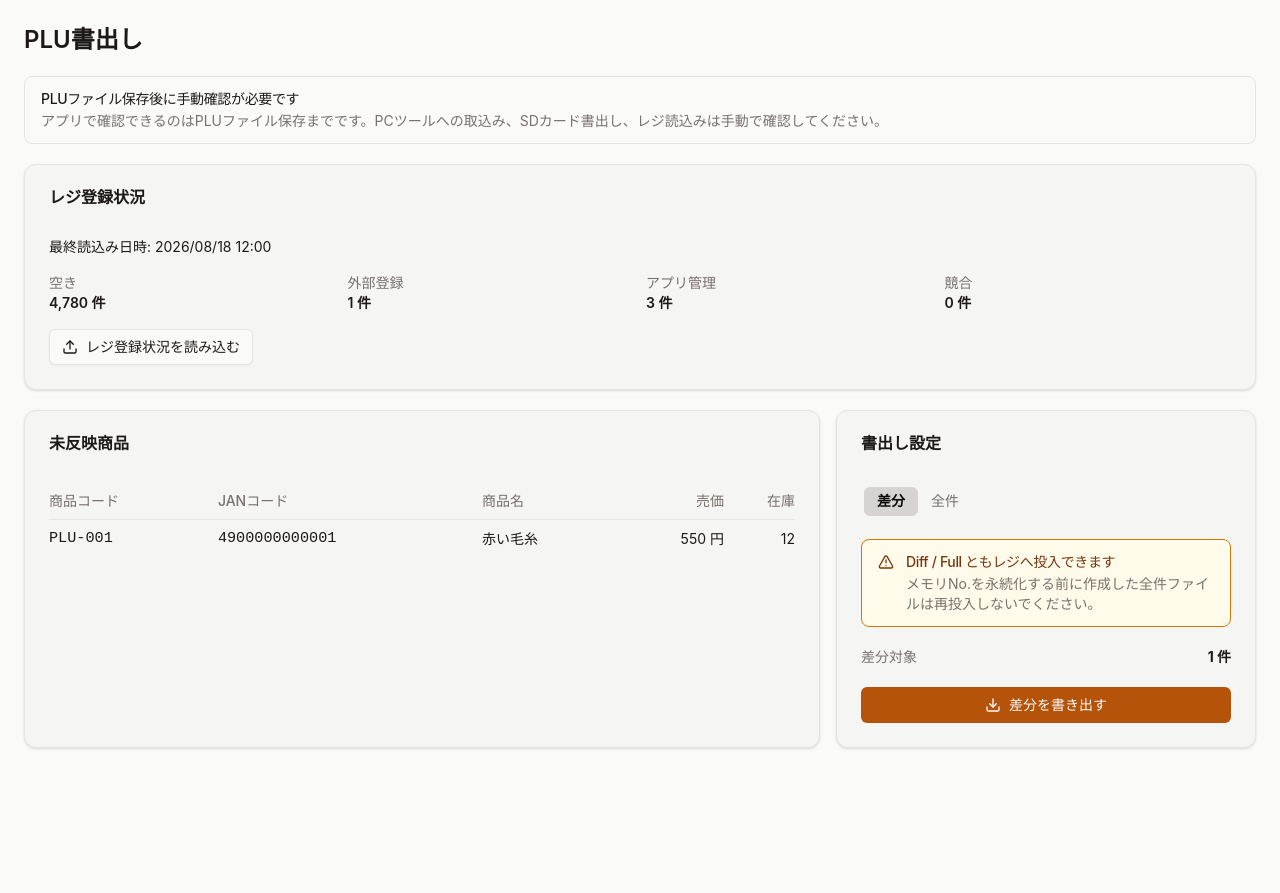
Test: PluExportPage (UI-08 / REQ-402) › REQ-402 shows confirm failure as a destructive top status with retry
The image size is (1280, 893).
Click the button "差分を書き出す".
click(1046, 705)  # box 861,687 -> 1231,723
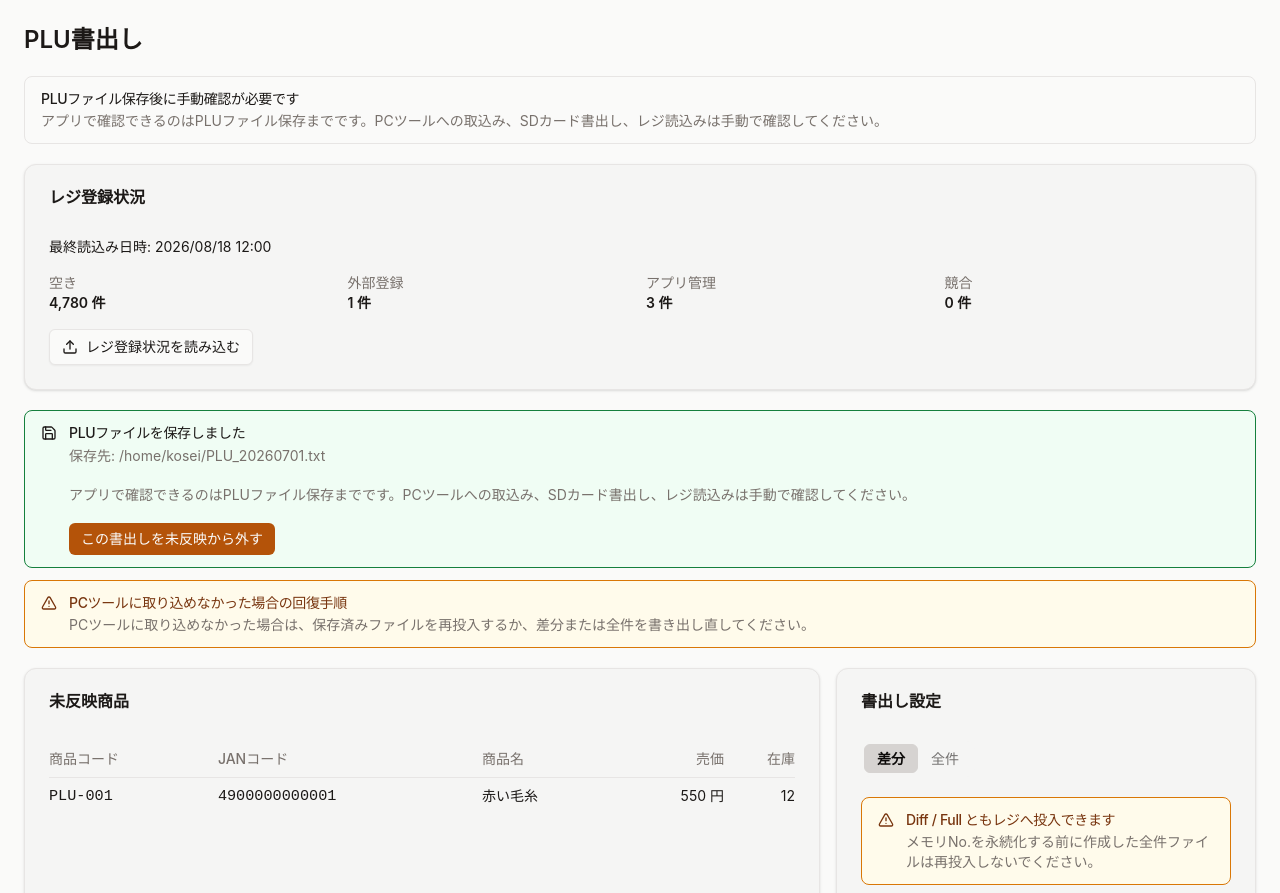
Click the button "この書出しを未反映から外す".
click(172, 538)  # box 69,522 -> 275,554
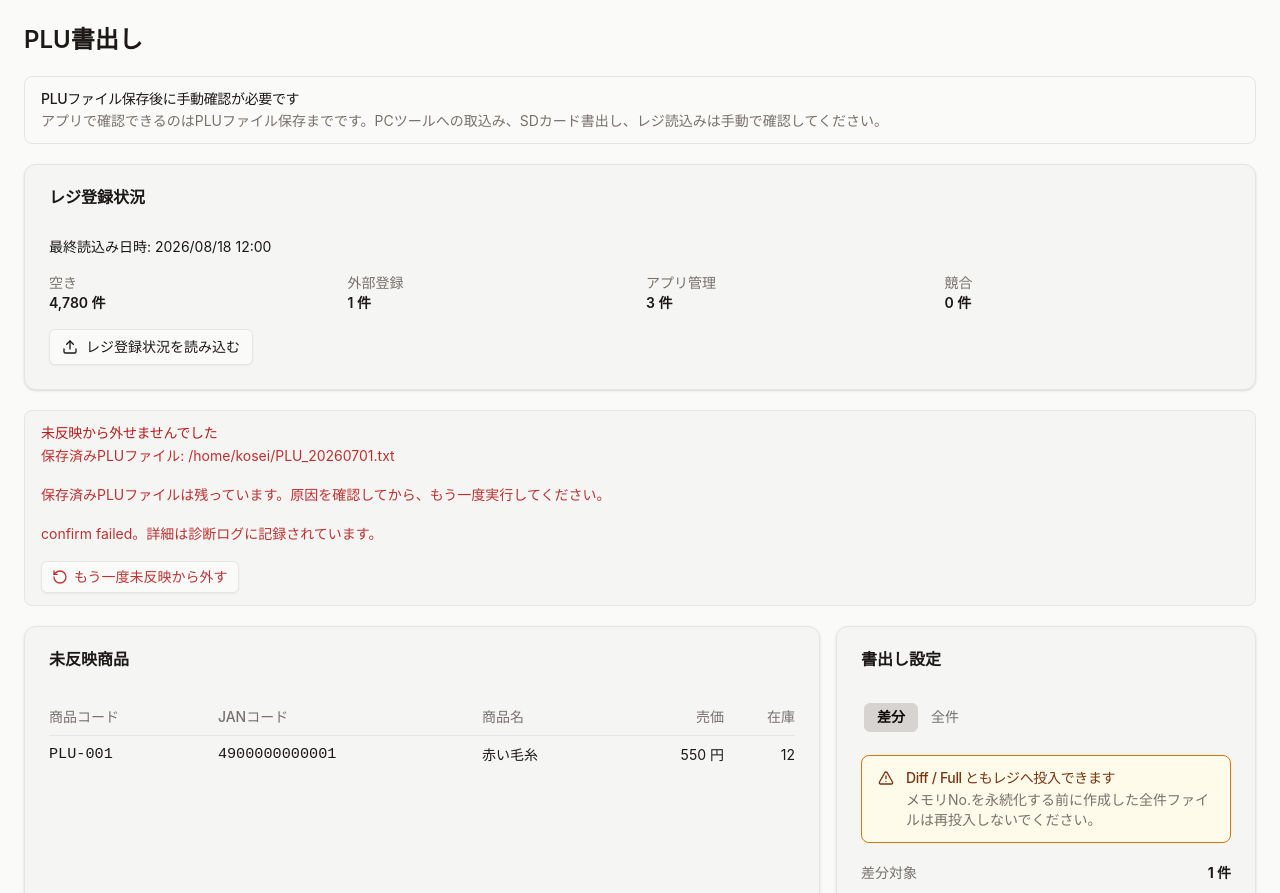
Now the text "未反映から外せませんでした" is shown, box 41,424 -> 217,441
Now the text "confirm failed。詳細は診断ログに記録されています。" is shown, box 41,522 -> 382,545
Now the text "PLUファイルを保存しました" is gone
